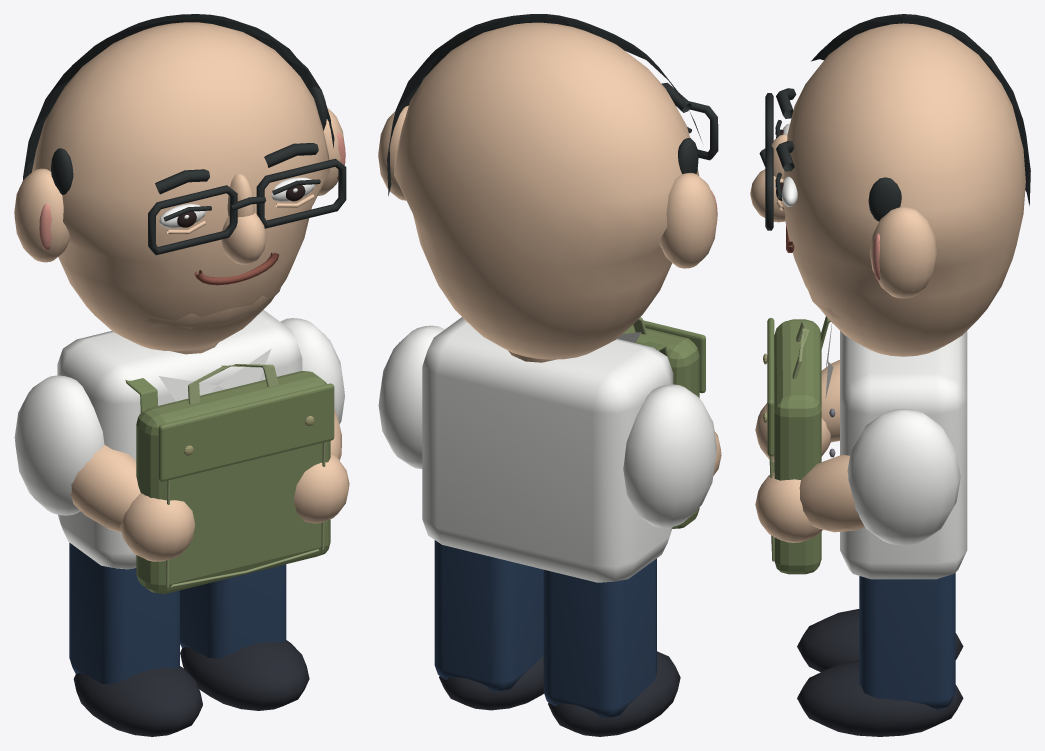
The model's file is longlong-11.glb.
3 views of the same model, side by side, from view 1: azimuth 30°, elevation 25°; view 2: azimuth 150°, elevation 25°; view 3: azimuth 270°, elevation 25° (orthographic). The views are drawn at different scales.
Parts seen in each view (by area): view 1: Trousers, Large military green canvas bag, Canvas side stitched seam, Canvas top carry handle, Canvas shoulder strap; view 2: Trousers, Large military green canvas bag; view 3: Trousers, Large military green canvas bag.
Part boxes in pixels (x1,y1,x2,y2): Trousers: [14, 14, 349, 736]; Large military green canvas bag: [136, 371, 334, 594]; Canvas side stitched seam: [166, 442, 325, 587]; Canvas top carry handle: [188, 364, 278, 404]; Canvas shoulder strap: [125, 378, 157, 412]; Trousers: [378, 14, 721, 736]; Large military green canvas bag: [623, 320, 705, 528]; Trousers: [750, 14, 1030, 736]; Large military green canvas bag: [767, 318, 821, 574].
Size of the model in its own units: 1.49 by 3 by 1.13.
Materials: 4 (1 with a texture image).
